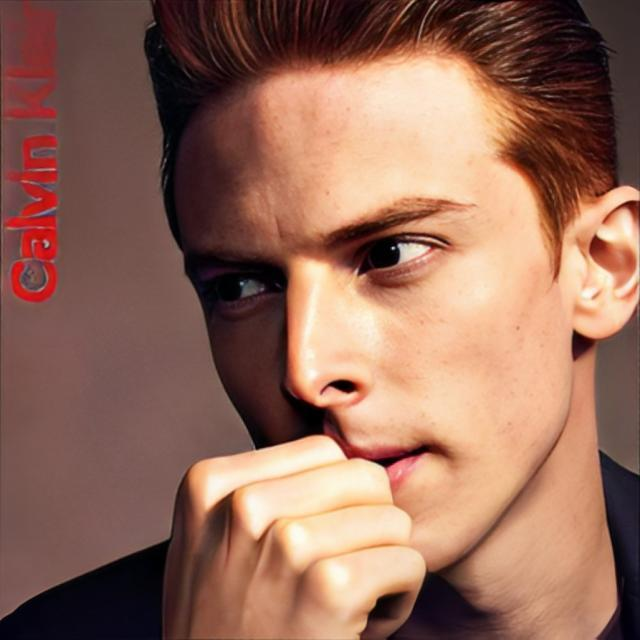anger: (188, 54, 572, 573)
